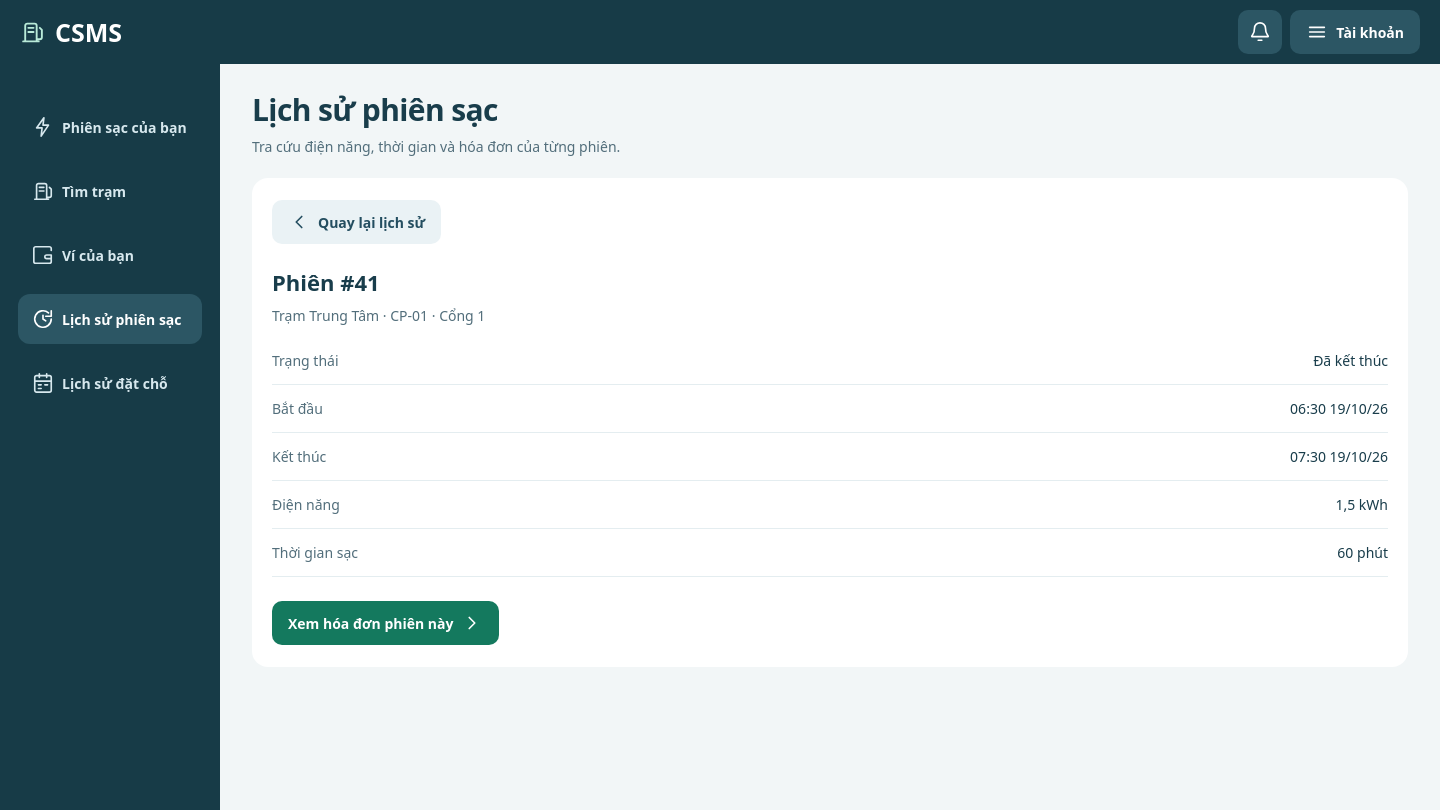
Test: resets a session deep link when returning to history from the account menu
Expected: the heading "Phiên #41" is shown, [272,267,380,297]
Click the button "Tài khoản".
click(1355, 32)  # box [1290,10,1420,54]
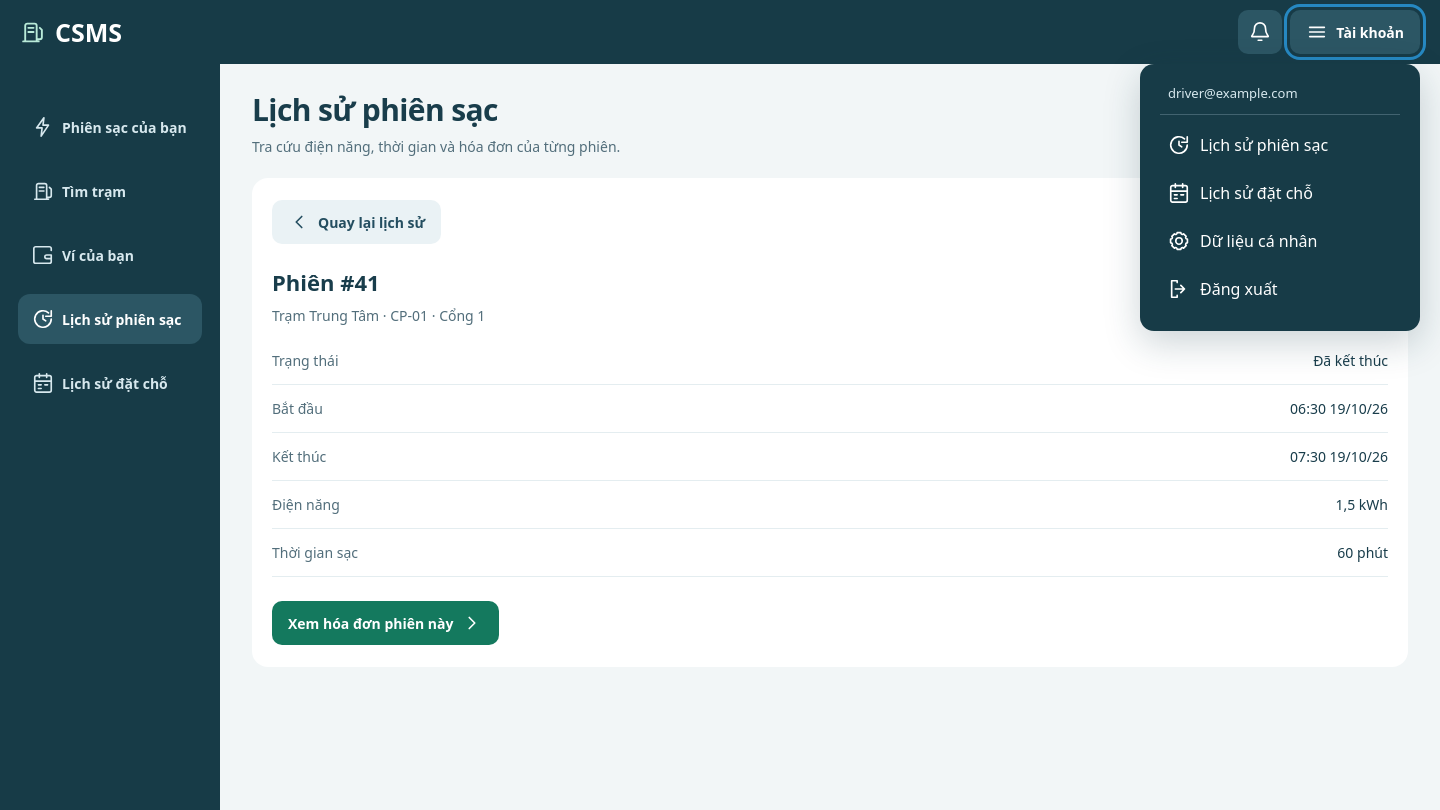
Click the button "Lịch sử phiên sạc".
click(1280, 145)  # box [1160,123,1400,167]
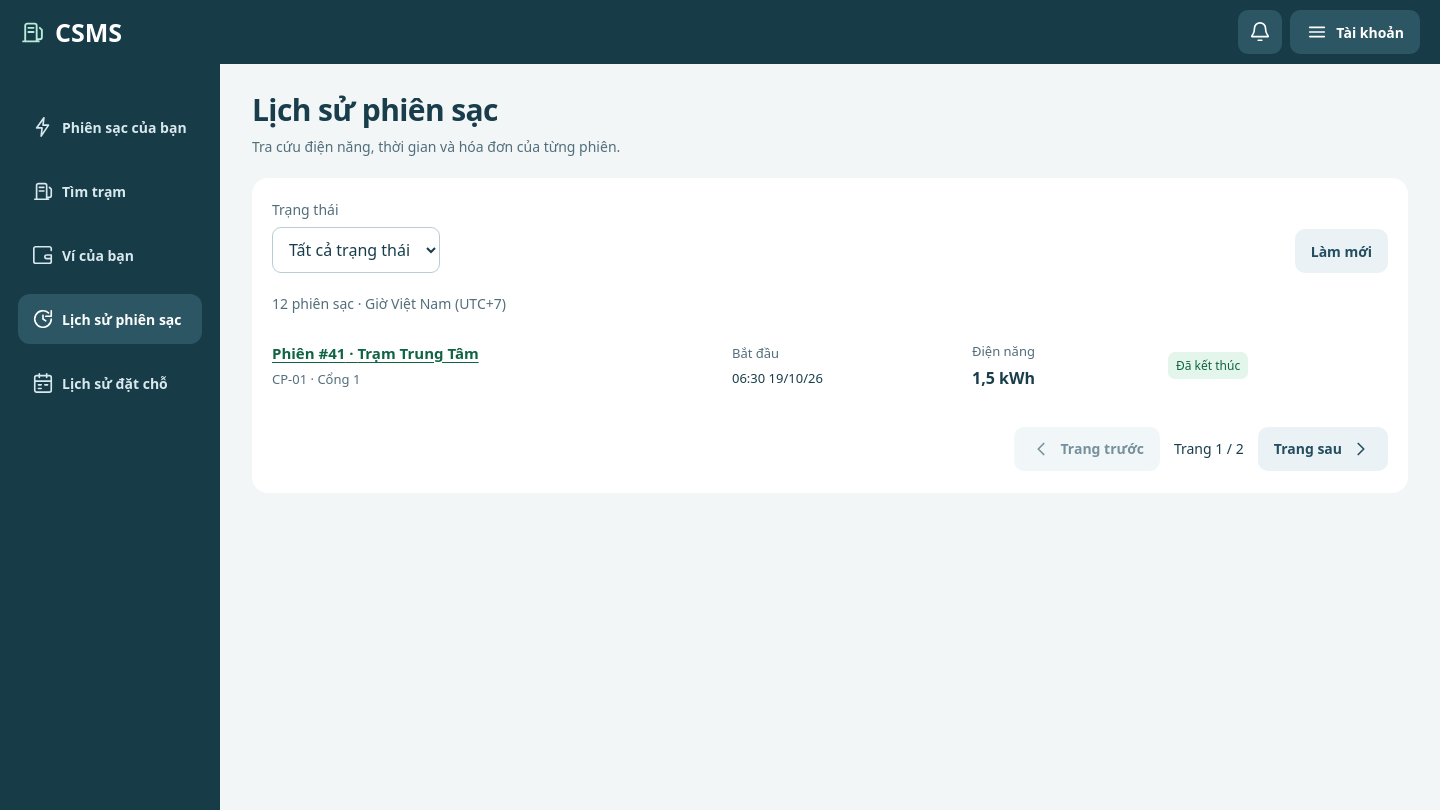
Expected: the link "Phiên #41 · Trạm Trung Tâm" is shown, [272,343,479,363]
